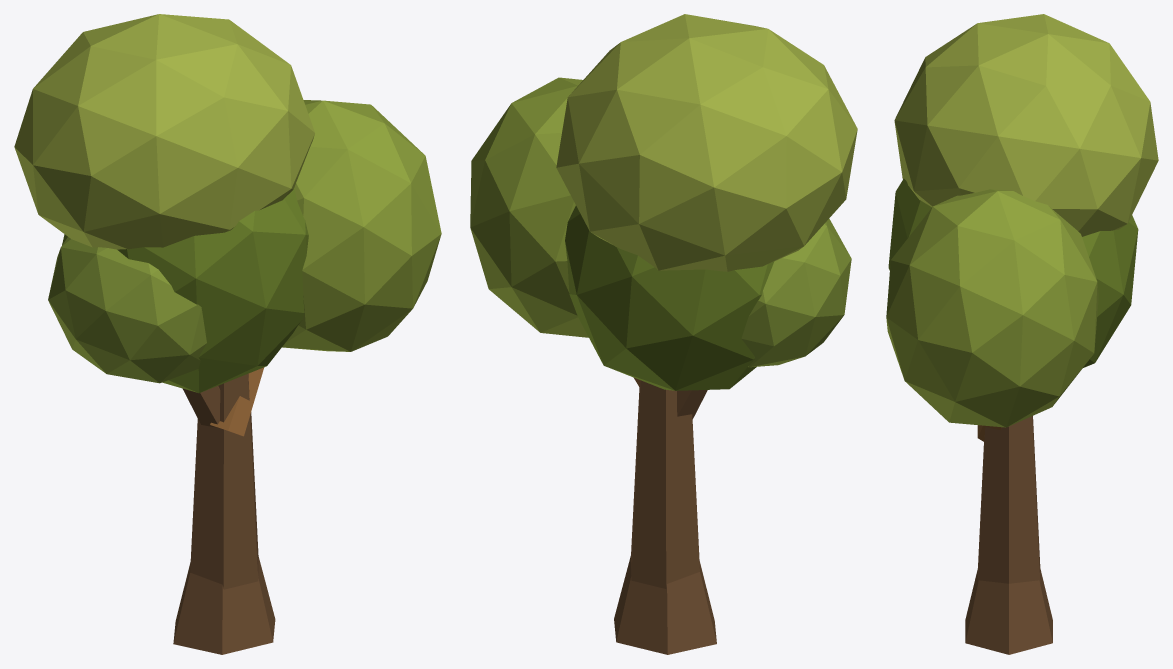
File: tree-canopy-12.gltf
The picture shows the model from 3 angles, left to right: view 1: azimuth 30°, elevation 25°; view 2: azimuth 150°, elevation 25°; view 3: azimuth 270°, elevation 25°; orthographic projection. The views are drawn at different scales.
Visible parts, largest first — view 1: tree-canopy-12; view 2: tree-canopy-12; view 3: tree-canopy-12.
Part boxes in pixels (x1,y1,x2,y2): tree-canopy-12: [14, 14, 441, 654]; tree-canopy-12: [470, 14, 857, 654]; tree-canopy-12: [886, 14, 1158, 654].
Bounding box in the file's own units: 1.14 × 1.78 × 0.7627.
